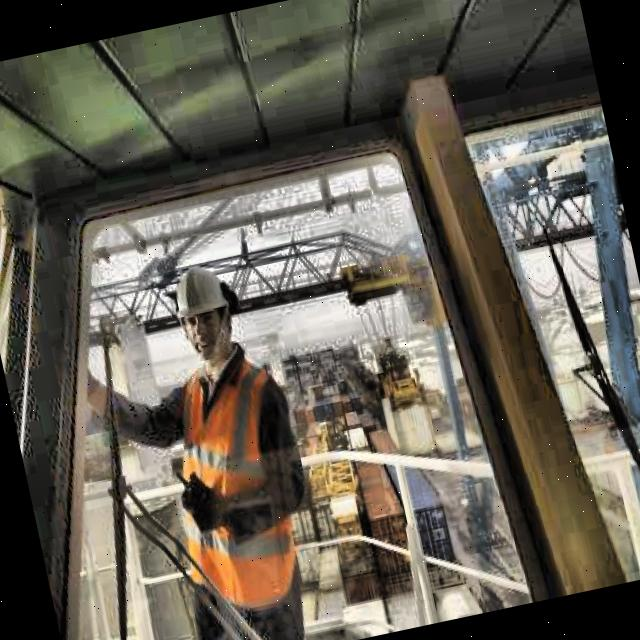helmet: (162, 254, 249, 370)
